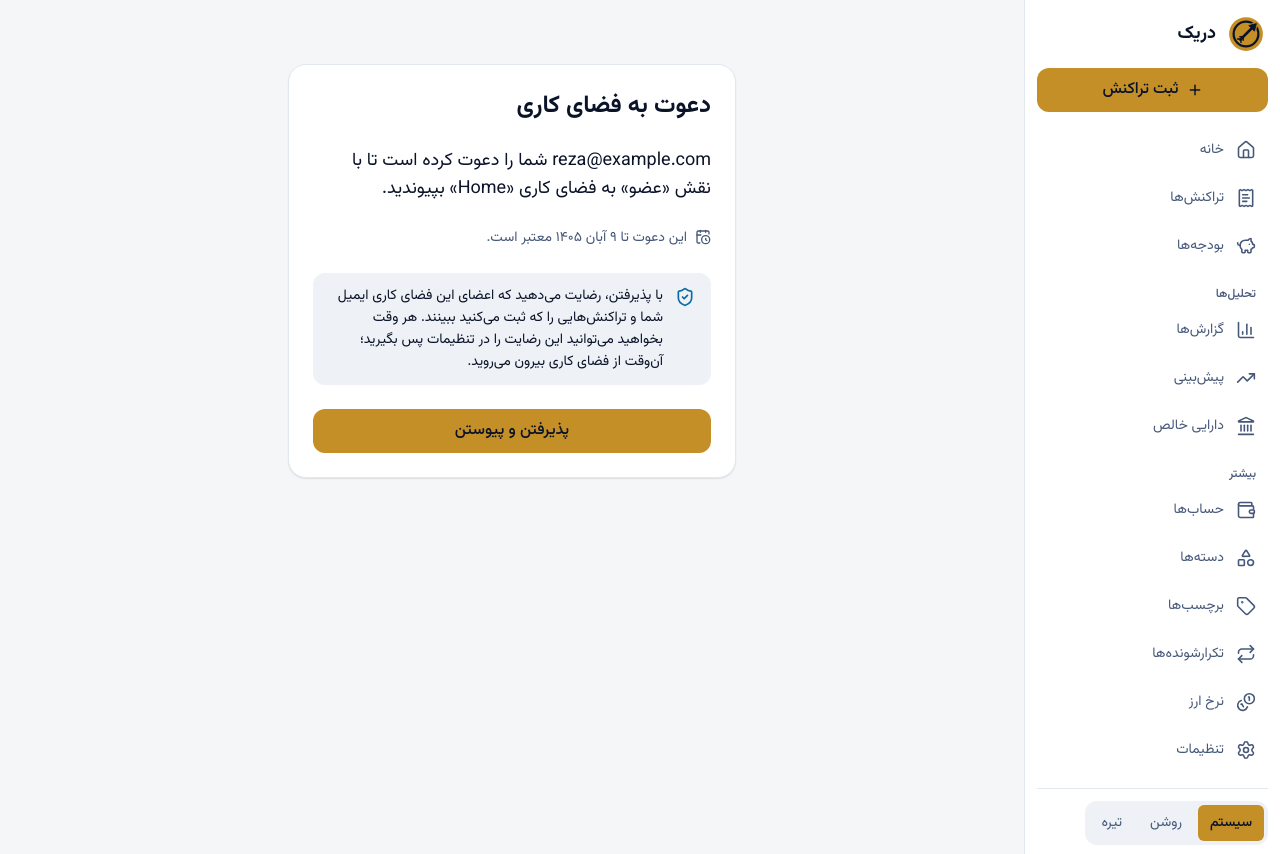
Scenario: Accepting an Invitation › shows what it offers and the Consent, then joins and switches to the Workspace
This screenshot has width=1280, height=854.
Expected: the text "با پذیرفتن، رضایت می‌دهید" is shown, [338,285,663,373]
Click the button "پذیرفتن و پیوستن" at (512, 431), box [313,409,711,453]
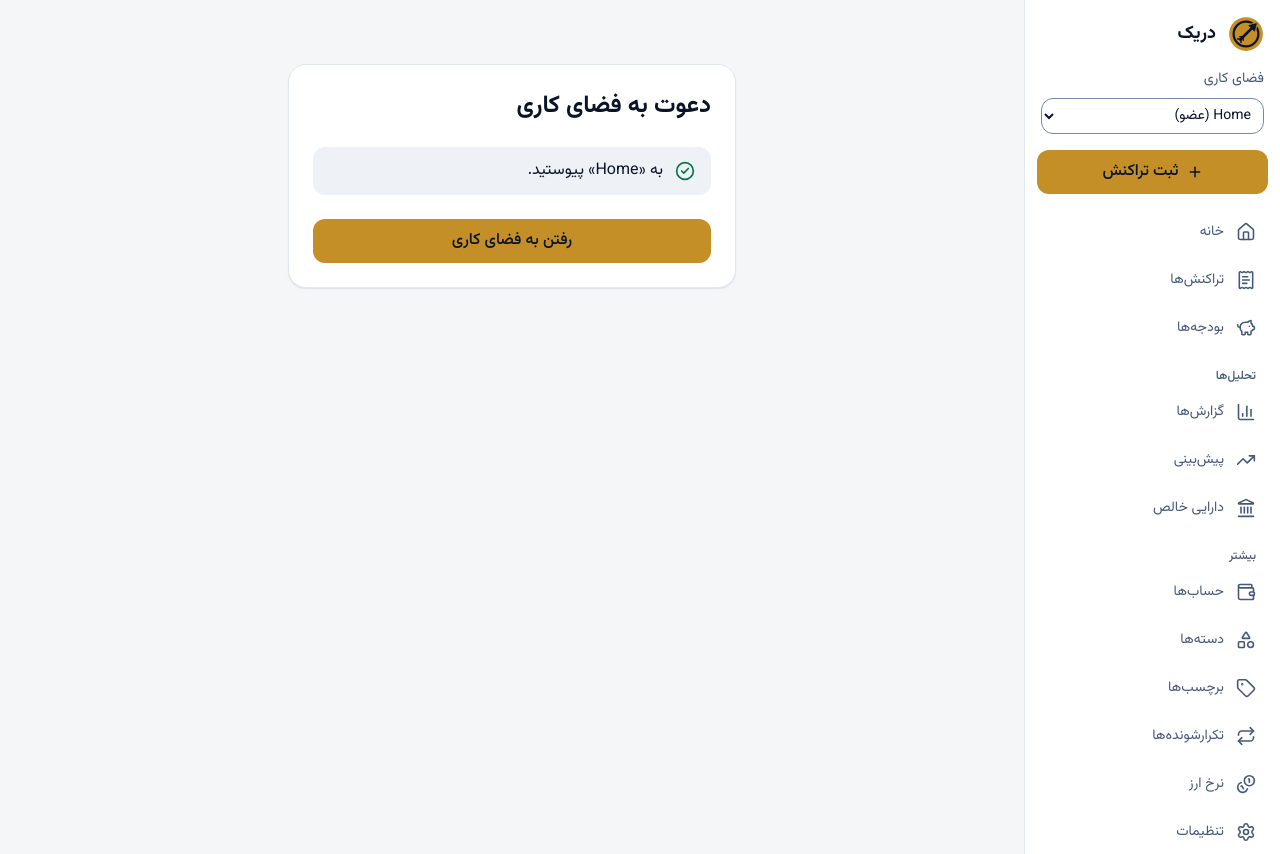
Expected: the text "به « Home » پیوستید." is shown, [528,159,663,183]
